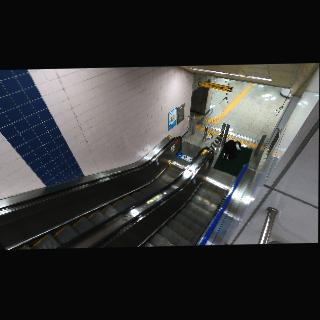anomaly: (220, 138, 243, 162)
